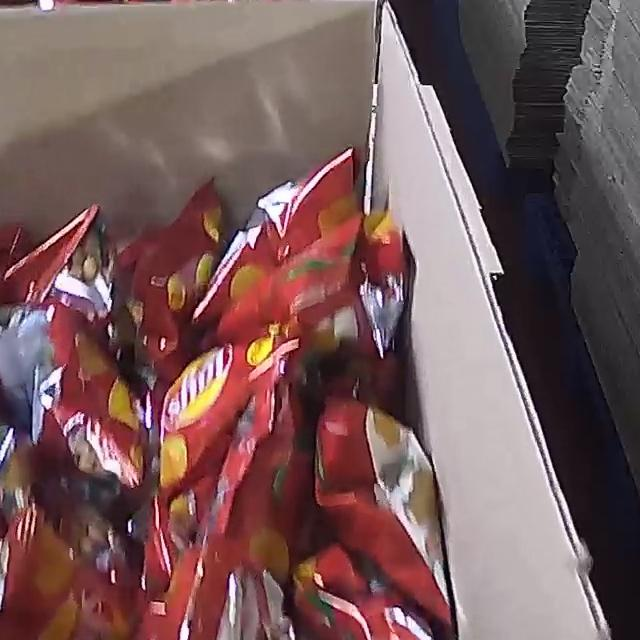masala: (0, 145, 471, 640)
